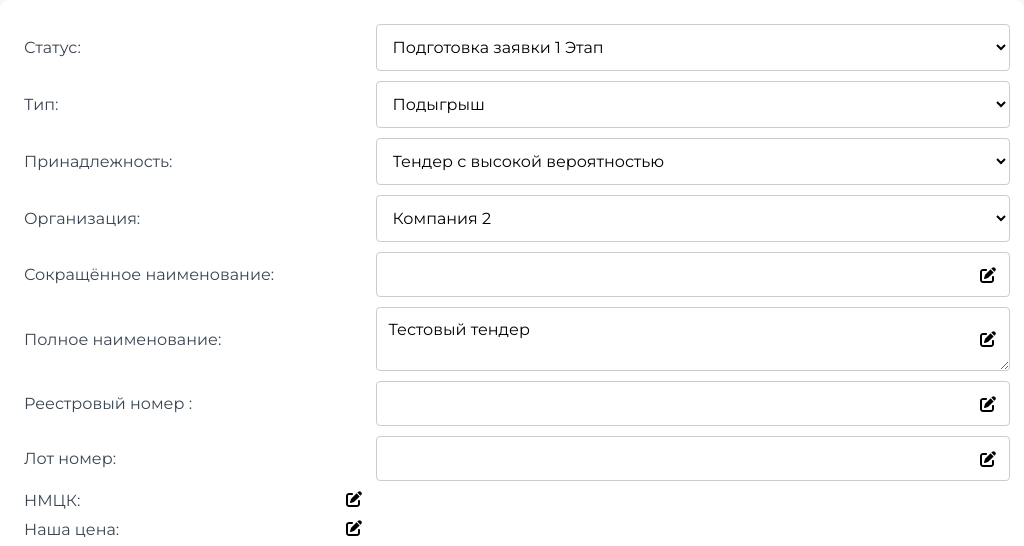
Test: TenderForm › должен отображать ошибки валидации
Clear the text box labelled "Полное наименование:" at (693, 339), box [376, 307, 1010, 371]
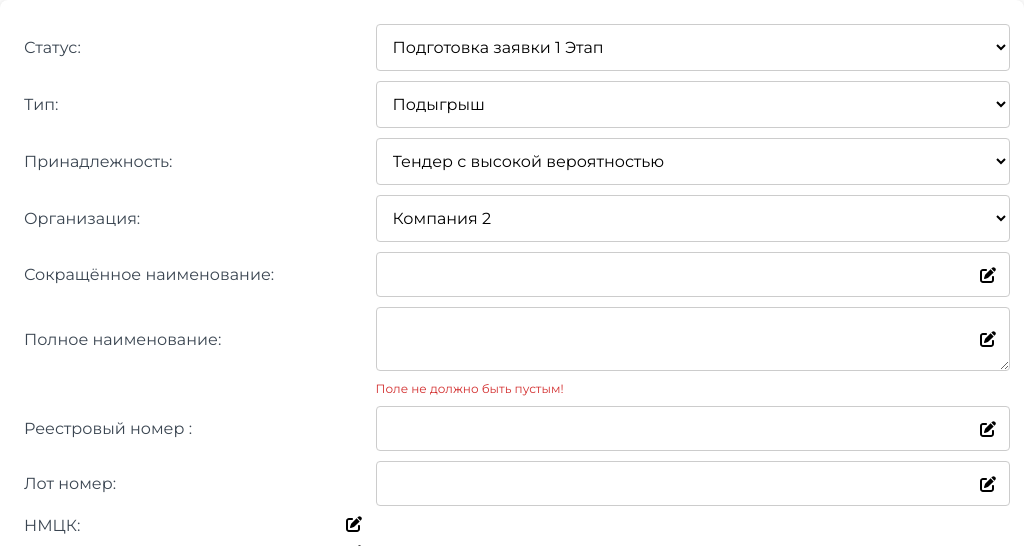
Expected: the text "Поле не должно быть пустым!" is shown, [376, 381, 564, 396]
